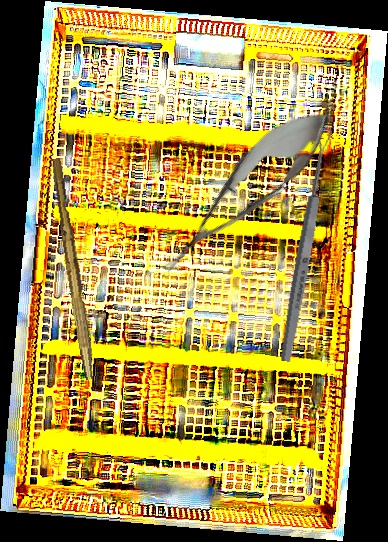Micro Scissor: (144, 87, 349, 292)
Scalpel Handle: (46, 157, 101, 381)
Surgical Spoon: (277, 127, 335, 363)
